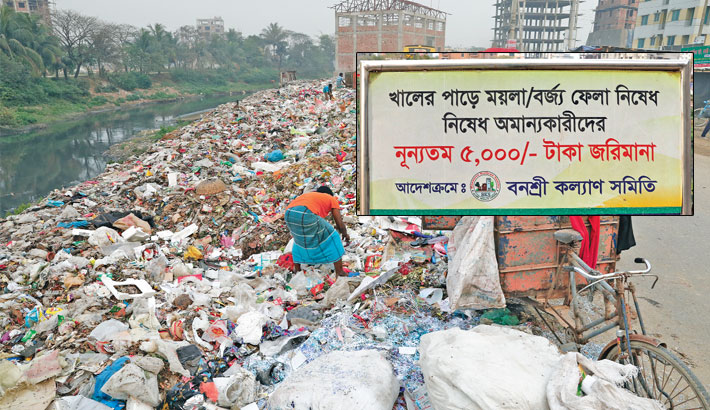garbagevan: (422, 212, 710, 410)
